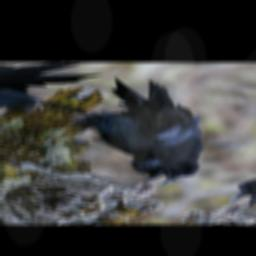Crow: (7, 73, 256, 190)
